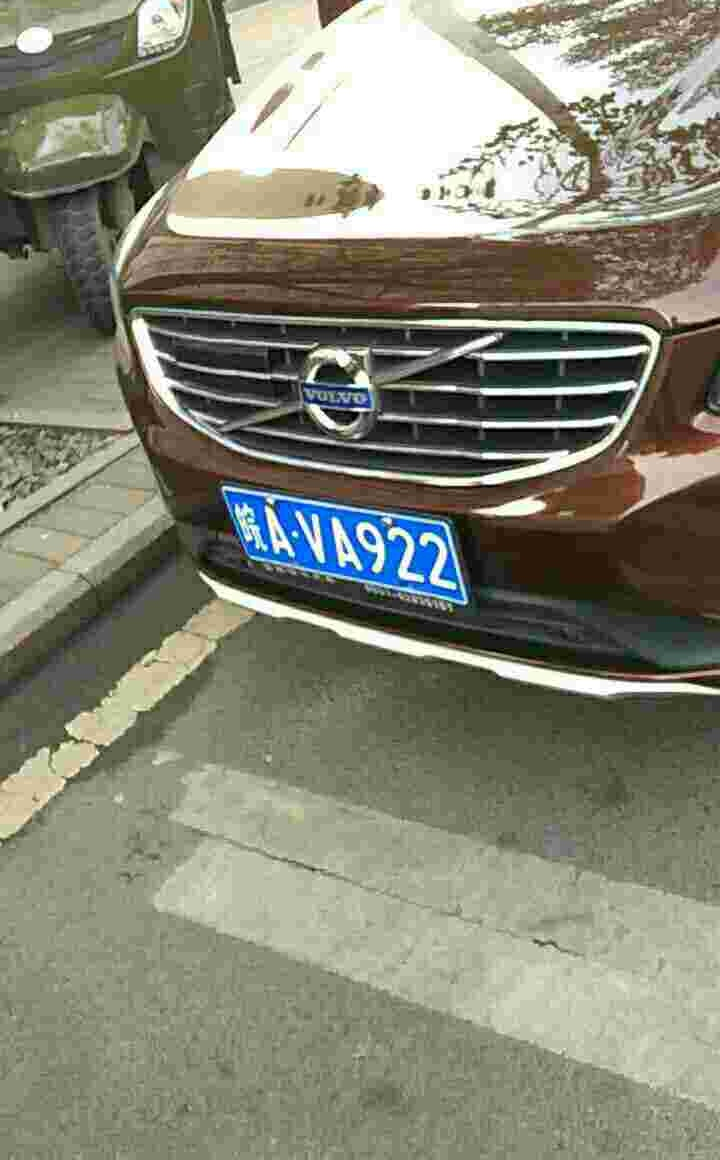license_plate: (233, 494, 456, 602)
